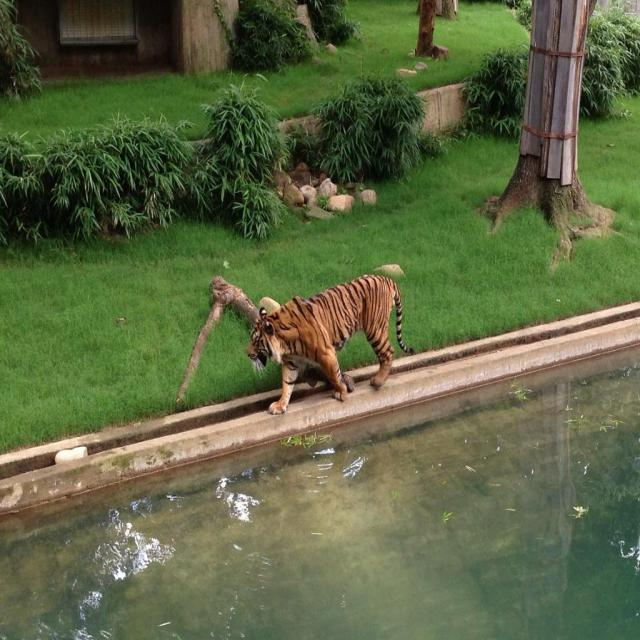Tiger: (245, 269, 415, 416)
